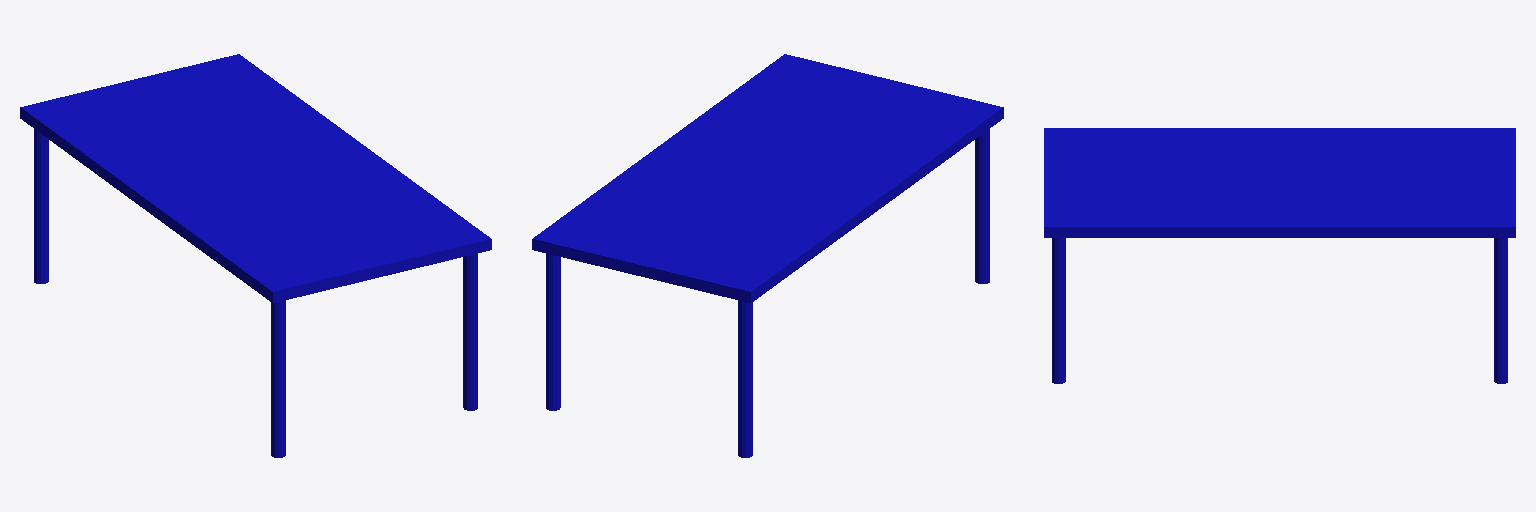
URDF robot description (kuka_kr16_2):
<?xml version="1.0" ?>
<!-- =================================================================================== -->
<!-- |    This document was autogenerated by xacro from kr16_2.xacro                   | -->
<!-- |    EDITING THIS FILE BY HAND IS NOT RECOMMENDED                                 | -->
<!-- =================================================================================== -->
<!--Generates a urdf from the macro in kr16_2_macro.xacro -->
<robot name="kuka_kr16_2" xmlns:xacro="http://wiki.ros.org/xacro">
  <material name="Blue">
    <color rgba="0.1 0.1 0.8 1.0"/>
  </material>
  <material name="Grey">
    <color rgba="0.4 0.4 0.4 1.0"/>
  </material>
  <material name="Orange">
    <color rgba="1.0 0.423529411765 0.0392156862745 1.0"/>
  </material>
  <!-- LINKS -->
  <!-- table link -->
  <link name="table_link">
    <inertial>
      <origin rpy="0 0 1.57079632679" xyz="1.25 0 0.5"/>
      <mass value="2"/>
      <inertia ixx="0.01" ixy="0" ixz="0" iyy="0.01" iyz="0" izz="0.01"/>
    </inertial>
    <visual>
      <origin rpy="0 0 1.57079632679" xyz="1.25 0 0.5"/>
      <geometry>
        <mesh filename="meshes/kr16_2/visual/table_link.dae"/>
      </geometry>
      <material name="Blue"/>
    </visual>
    <collision>
      <origin rpy="0 0 1.57079632679" xyz="1.25 0 0.5"/>
      <geometry>
        <mesh filename="meshes/kr16_2/visual/table_link.stl"/>
      </geometry>
    </collision>
  </link>
  <!-- base link -->
  <link name="base_link">
    <inertial>
      <origin rpy="0 0 0" xyz="0 0 0"/>
      <mass value="2"/>
      <inertia ixx="0.01" ixy="0" ixz="0" iyy="0.01" iyz="0" izz="0.01"/>
    </inertial>
    <visual>
      <origin rpy="0 0 0" xyz="0 0 0"/>
      <geometry>
        <mesh filename="meshes/kr16_2/visual/base_link.dae"/>
      </geometry>
      <material name="Grey"/>
    </visual>
    <collision>
      <origin rpy="0 0 0" xyz="0 0 0"/>
      <geometry>
        <mesh filename="meshes/kr16_2/collision/base_link.stl"/>
      </geometry>
    </collision>
  </link>
  <!-- link 1 (A1) -->
  <link name="link_1">
    <inertial>
      <origin rpy="0 0 0" xyz="0 0 0"/>
      <mass value="2"/>
      <inertia ixx="0.01" ixy="0" ixz="0" iyy="0.01" iyz="0" izz="0.01"/>
    </inertial>
    <visual>
      <origin rpy="0 0 0" xyz="0 0 0"/>
      <geometry>
        <mesh filename="meshes/kr16_2/visual/link_1.dae"/>
      </geometry>
      <material name="Orange"/>
    </visual>
    <collision>
      <origin rpy="0 0 0" xyz="0 0 0"/>
      <geometry>
        <mesh filename="meshes/kr16_2/collision/link_1.stl"/>
      </geometry>
    </collision>
  </link>
  <!-- link 2 -->
  <link name="link_2">
    <inertial>
      <origin rpy="0 0 0" xyz="0 0 0"/>
      <mass value="2"/>
      <inertia ixx="0.01" ixy="0" ixz="0" iyy="0.01" iyz="0" izz="0.01"/>
    </inertial>
    <visual>
      <origin rpy="1.57079632679 -1.57079632679 0" xyz="0 0 0"/>
      <geometry>
        <mesh filename="meshes/kr16_2/visual/link_2.dae"/>
      </geometry>
      <material name="Orange"/>
    </visual>
    <collision>
      <origin rpy="1.57079632679 -1.57079632679 0" xyz="0 0 0"/>
      <geometry>
        <mesh filename="meshes/kr16_2/collision/link_2.stl"/>
      </geometry>
    </collision>
  </link>
  <!-- link 3 -->
  <link name="link_3">
    <inertial>
      <origin rpy="0 0 0" xyz="0 0 0"/>
      <mass value="2"/>
      <inertia ixx="0.01" ixy="0" ixz="0" iyy="0.01" iyz="0" izz="0.01"/>
    </inertial>
    <visual>
      <origin rpy="0 0 0" xyz="0 0 0"/>
      <geometry>
        <mesh filename="meshes/kr16_2/visual/link_3.dae"/>
      </geometry>
      <material name="Orange"/>
    </visual>
    <collision>
      <origin rpy="0 0 0" xyz="0 0 0"/>
      <geometry>
        <mesh filename="meshes/kr16_2/collision/link_3.stl"/>
      </geometry>
    </collision>
  </link>
  <!-- link 4 -->
  <link name="link_4">
    <inertial>
      <origin rpy="0 0 0" xyz="0 0 0"/>
      <mass value="2"/>
      <inertia ixx="0.01" ixy="0" ixz="0" iyy="0.01" iyz="0" izz="0.01"/>
    </inertial>
    <visual>
      <origin rpy="0 0 0" xyz="0 0 0"/>
      <geometry>
        <mesh filename="meshes/kr16_2/visual/link_4.dae"/>
      </geometry>
      <material name="Orange"/>
    </visual>
    <collision>
      <origin rpy="0 0 0" xyz="0 0 0"/>
      <geometry>
        <mesh filename="meshes/kr16_2/collision/link_4.stl"/>
      </geometry>
    </collision>
  </link>
  <!-- link 5 -->
  <link name="link_5">
    <inertial>
      <origin rpy="0 0 0" xyz="0 0 0"/>
      <mass value="2"/>
      <inertia ixx="0.01" ixy="0" ixz="0" iyy="0.01" iyz="0" izz="0.01"/>
    </inertial>
    <visual>
      <origin rpy="0 0 0" xyz="0 0 0"/>
      <geometry>
        <mesh filename="meshes/kr16_2/visual/link_5.dae"/>
      </geometry>
      <material name="Orange"/>
    </visual>
    <collision>
      <origin rpy="0 0 0" xyz="0 0 0"/>
      <geometry>
        <mesh filename="meshes/kr16_2/collision/link_5.stl"/>
      </geometry>
    </collision>
  </link>
  <!-- link 6 -->
  <link name="link_6">
    <inertial>
      <origin rpy="0 0 0" xyz="0 0 0"/>
      <mass value="2"/>
      <inertia ixx="0.01" ixy="0" ixz="0" iyy="0.01" iyz="0" izz="0.01"/>
    </inertial>
    <visual>
      <origin rpy="0 0 0" xyz="0 0 0"/>
      <geometry>
        <mesh filename="meshes/kr16_2/visual/link_6.dae"/>
      </geometry>
      <material name="Orange"/>
    </visual>
    <collision>
      <origin rpy="0 0 0" xyz="0 0 0"/>
      <geometry>
        <mesh filename="meshes/kr16_2/collision/link_6.stl"/>
      </geometry>
    </collision>
  </link>
  <!-- tool 0 -->
  <!-- This frame corresponds to the $FLANGE coordinate system in KUKA KRC controllers. -->
  <link name="tool0"/>
  <!-- END LINKS -->
  <!-- JOINTS -->
  <!-- joint 0 (A0: Table) -->
  <joint name="table_to_base" type="fixed">
    <origin rpy="0 0 0" xyz="0 0 0"/>
    <parent link="table_link"/>
    <child link="base_link"/>
  </joint>
  <!-- joint 1 (A1) -->
  <joint name="joint_a1" type="revolute">
    <origin rpy="0 0 0" xyz="0 0 0.675"/>
    <parent link="base_link"/>
    <child link="link_1"/>
    <axis xyz="0 0 -1"/>
    <limit effort="0" lower="-3.22885911619" upper="3.22885911619" velocity="2.72271363311"/>
  </joint>
  <!-- joint 2 (A2) -->
  <joint name="joint_a2" type="revolute">
    <origin rpy="0 0 0" xyz="0.26 0 0"/>
    <parent link="link_1"/>
    <child link="link_2"/>
    <axis xyz="0 1 0"/>
    <limit effort="0" lower="-1.134464013796314" upper="2.181661564992912" velocity="2.72271363311"/>
  </joint>
  <!-- joint 3 (A3) -->
  <joint name="joint_a3" type="revolute">
    <origin rpy="0 0 0" xyz="0 0 0.68"/>
    <parent link="link_2"/>
    <child link="link_3"/>
    <axis xyz="0 1 0"/>
    <limit effort="0" lower="-3.839724354387525" upper="1.117010721276371" velocity="2.72271363311"/>
  </joint>
  <!-- joint 4 (A4) -->
  <joint name="joint_a4" type="revolute">
    <origin rpy="0 0 0" xyz="0.67 0 -0.035"/>
    <parent link="link_3"/>
    <child link="link_4"/>
    <axis xyz="-1 0 0"/>
    <limit effort="0" lower="-6.10865238198" upper="6.10865238198" velocity="5.75958653158"/>
  </joint>
  <!-- joint 5 (A5) -->
  <joint name="joint_a5" type="revolute">
    <origin rpy="0 0 0" xyz="0 0 0"/>
    <parent link="link_4"/>
    <child link="link_5"/>
    <axis xyz="0 1 0"/>
    <limit effort="0" lower="-2.26892802759" upper="2.26892802759" velocity="5.75958653158"/>
  </joint>
  <!-- joint 6 (A6) -->
  <joint name="joint_a6" type="revolute">
    <origin rpy="0 0 0" xyz="0 0 0"/>
    <parent link="link_5"/>
    <child link="link_6"/>
    <axis xyz="-1 0 0"/>
    <limit effort="0" lower="-6.10865238198" upper="6.10865238198" velocity="10.7337748998"/>
  </joint>
  <!-- tool frame - fixed frame -->
  <joint name="joint_a6-tool0" type="fixed">
    <parent link="link_6"/>
    <child link="tool0"/>
    <origin rpy="0 1.57079632679 0" xyz="0.158 0 0"/>
  </joint>
  <!-- END JOINTS -->
  <!-- ROS base_link to KUKA $ROBROOT coordinate system transform -->
  <link name="base"/>
  <joint name="base_link-base" type="fixed">
    <origin rpy="0 0 0" xyz="0 0 0"/>
    <parent link="base_link"/>
    <child link="base"/>
  </joint>
</robot>

--- Facts derived from the render (not from the file) ---
The picture shows the robot from 3 angles, left to right: view 1: azimuth 30°, elevation 25°; view 2: azimuth 150°, elevation 25°; view 3: azimuth 270°, elevation 25°; orthographic projection.
Robot: kuka_kr16_2 — 10 links, 9 joints (6 revolute, 3 fixed); root link table_link; default pose: every joint at zero.
Visible links, largest first — view 1: table_link; view 2: table_link; view 3: table_link.
Link boxes in pixels (left/top/right/bottom): table_link: left=20, top=54, right=491, bottom=457; table_link: left=532, top=54, right=1003, bottom=457; table_link: left=1044, top=128, right=1515, bottom=383.
Bounding box of the posed robot: 1 × 2 × 0.75 m (x, y, z).
Meshes: 8 distinct files referenced, 1 mesh visuals loaded (1 Collada DAE); not drawn: 7 (reference not matched to a file when rendering).